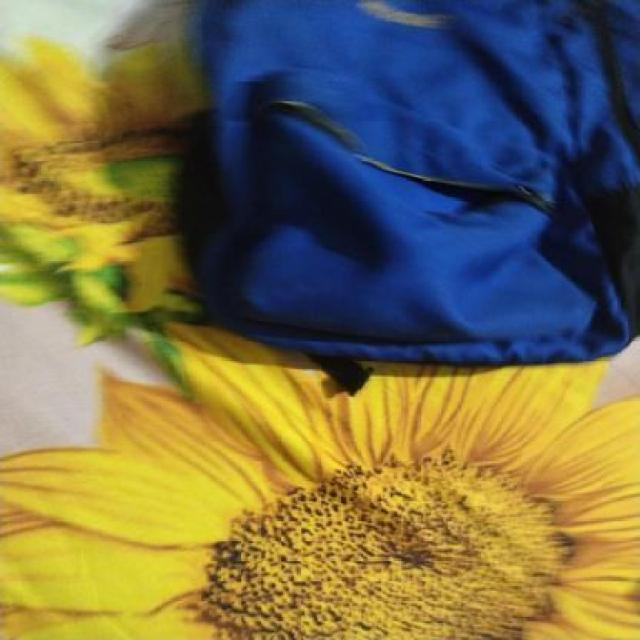backpack: (184, 0, 640, 395)
